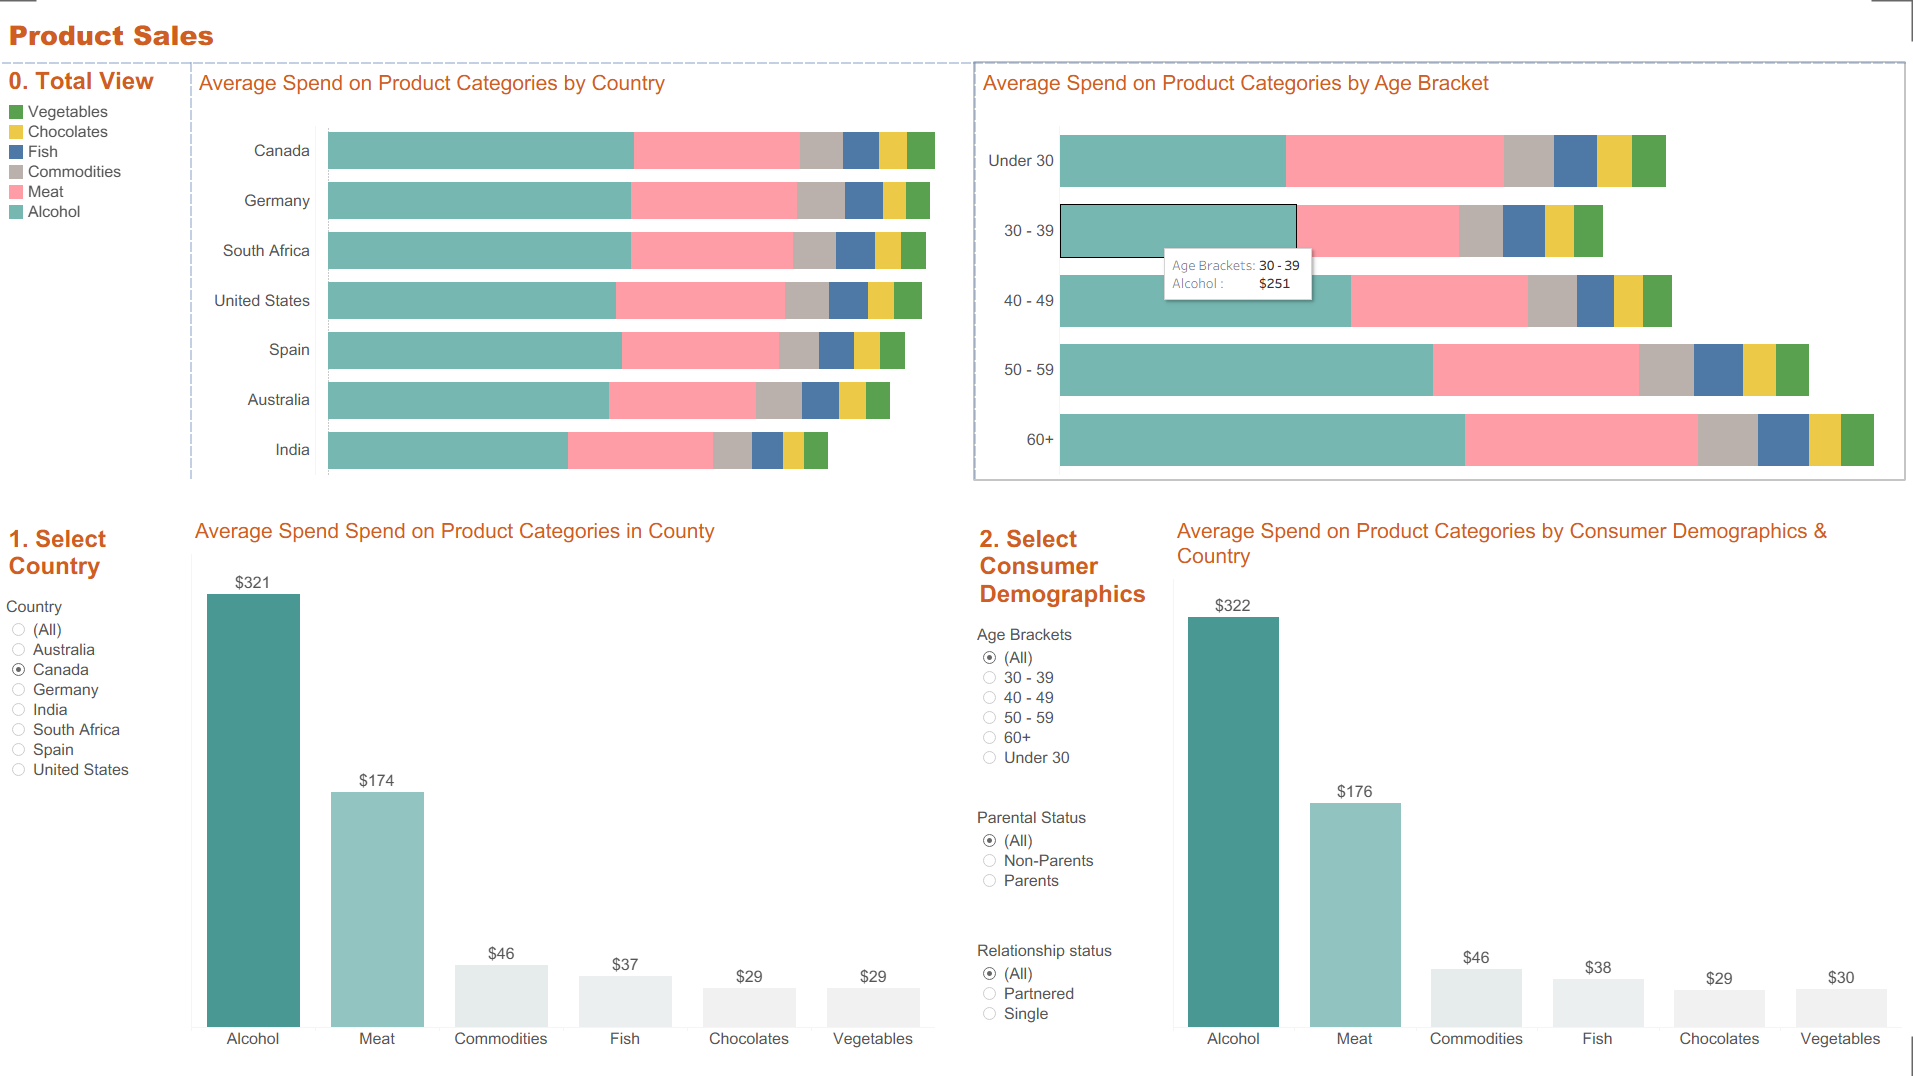

The dashboard page shown, as its layout file describes it:
{"tool":"tableau","page":{"name":"Product Sales","canvas":[1366,768],"ordinal":2},"visuals":[{"type":"text","box":[8,8,1350,70]},{"type":"text","box":[8,78,163,59]},{"type":"worksheet","title":"Average Spend on Product Categories by Country","mark":"Automatic","rows":["Country"],"box":[171,78,571,234]},{"type":"worksheet","title":"Average Spend on Product Categories by Age Bracket","mark":"Automatic","box":[742,78,616,234]},{"type":"legend","title":"Average Spend on Product Categories by Age Bracket","param":"[federated.1kk2em70emojga11suiy405n0gpr].[:Measure Names]","box":[8,137,163,175]},{"type":"blank","box":[8,312,1350,32]},{"type":"text","box":[8,344,160,68]},{"type":"worksheet","title":"Average Spend Spend on Product Categories in County","mark":"Automatic","box":[168,344,444,416]},{"type":"text","box":[612,344,215,92]},{"type":"worksheet","title":"Average Spend on Product Categories by Consumer Demographics & Country","mark":"Automatic","box":[827,344,531,416]},{"type":"filter","title":"Average Spend on Product Categories by Consumer Demographics & Country","param":"[federated.1kk2em70emojga11suiy405n0gpr].[none:Country:nk]","box":[8,412,160,348]},{"type":"filter","title":"Average Spend on Product Categories by Consumer Demographics & Country","param":"[federated.1kk2em70emojga11suiy405n0gpr].[Age (group)]","box":[612,436,215,154]},{"type":"filter","title":"Average Spend on Product Categories by Consumer Demographics & Country","param":"[federated.1kk2em70emojga11suiy405n0gpr].[Parental Status]","box":[612,590,215,102]},{"type":"filter","title":"Average Spend on Product Categories by Consumer Demographics & Country","param":"[federated.1kk2em70emojga11suiy405n0gpr].[Marital Status (group)]","box":[612,692,215,68]}]}

Visuals, with their boxes in screenshot pixels (x1, y1, x2, y2), scaled from the page's 1366x768 canvas onto the 1913x1076 screenshot:
text: 11/11/1902/109
text: 11/109/239/192
"Average Spend on Product Categories by Country" worksheet: 239/109/1039/437
"Average Spend on Product Categories by Age Bracket" worksheet: 1039/109/1902/437
"Average Spend on Product Categories by Age Bracket" legend: 11/192/239/437
blank: 11/437/1902/482
text: 11/482/235/577
"Average Spend Spend on Product Categories in County" worksheet: 235/482/857/1065
text: 857/482/1158/611
"Average Spend on Product Categories by Consumer Demographics & Country" worksheet: 1158/482/1902/1065
"Average Spend on Product Categories by Consumer Demographics & Country" filter: 11/577/235/1065
"Average Spend on Product Categories by Consumer Demographics & Country" filter: 857/611/1158/827
"Average Spend on Product Categories by Consumer Demographics & Country" filter: 857/827/1158/970
"Average Spend on Product Categories by Consumer Demographics & Country" filter: 857/970/1158/1065
